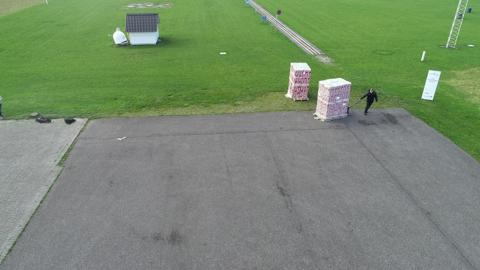RockwoolPallet: (288, 62, 311, 102)
